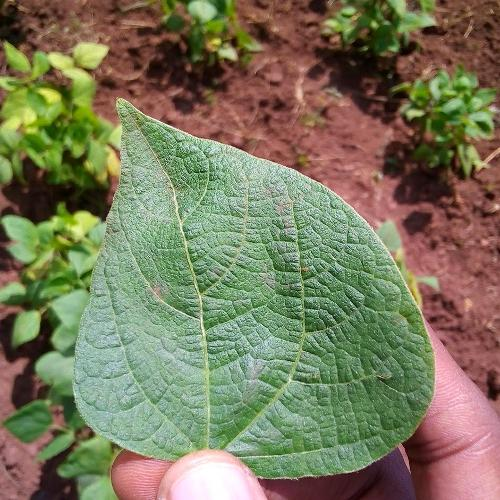hawar: (253, 188, 314, 294), (143, 275, 171, 316)
